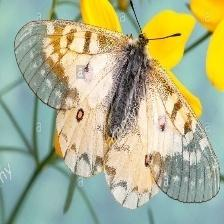butterfly: (15, 21, 221, 210)
